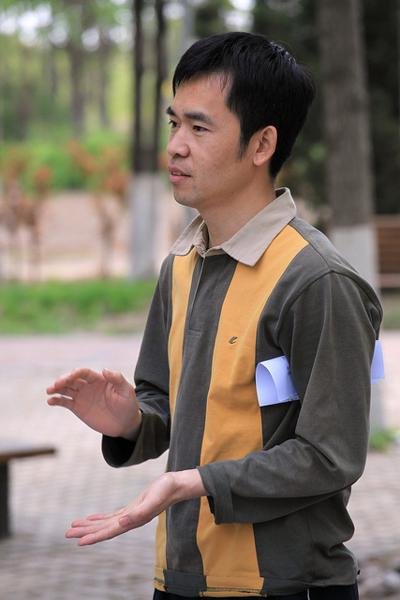person: (47, 33, 384, 600)
